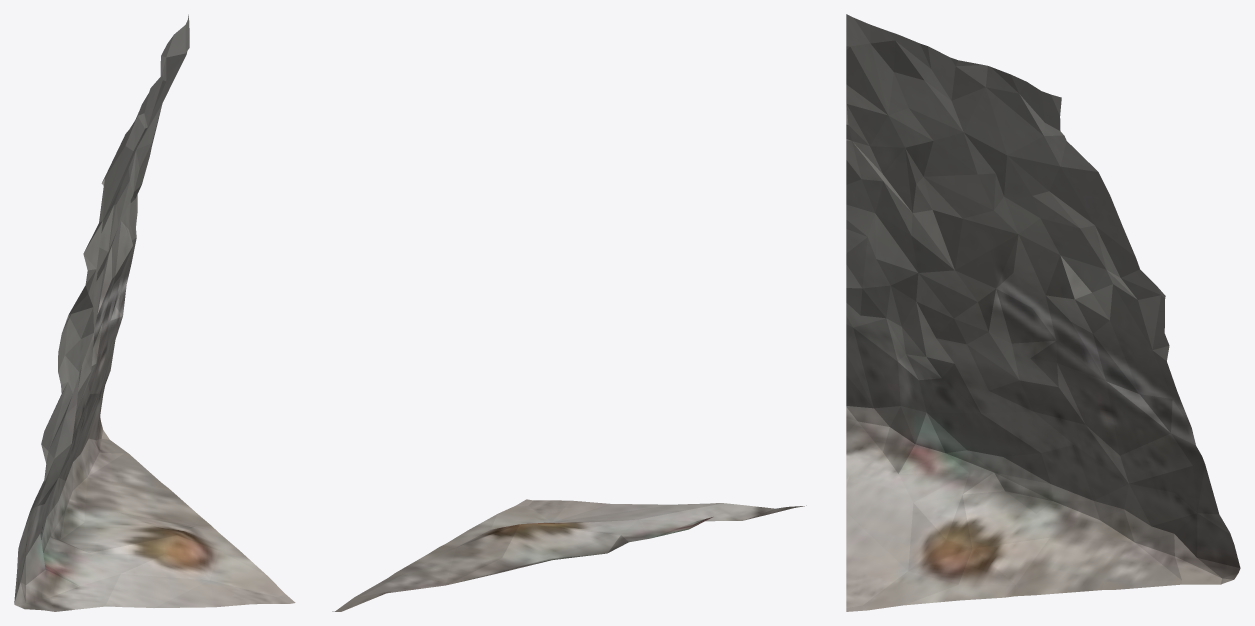
3 views of the same model, side by side, from view 1: azimuth 30°, elevation 25°; view 2: azimuth 150°, elevation 25°; view 3: azimuth 270°, elevation 25° (orthographic). The views are drawn at different scales.
Size of the model in its own units: 0.2445 by 0.4236 by 0.2942.
1 material, 1 textured.
